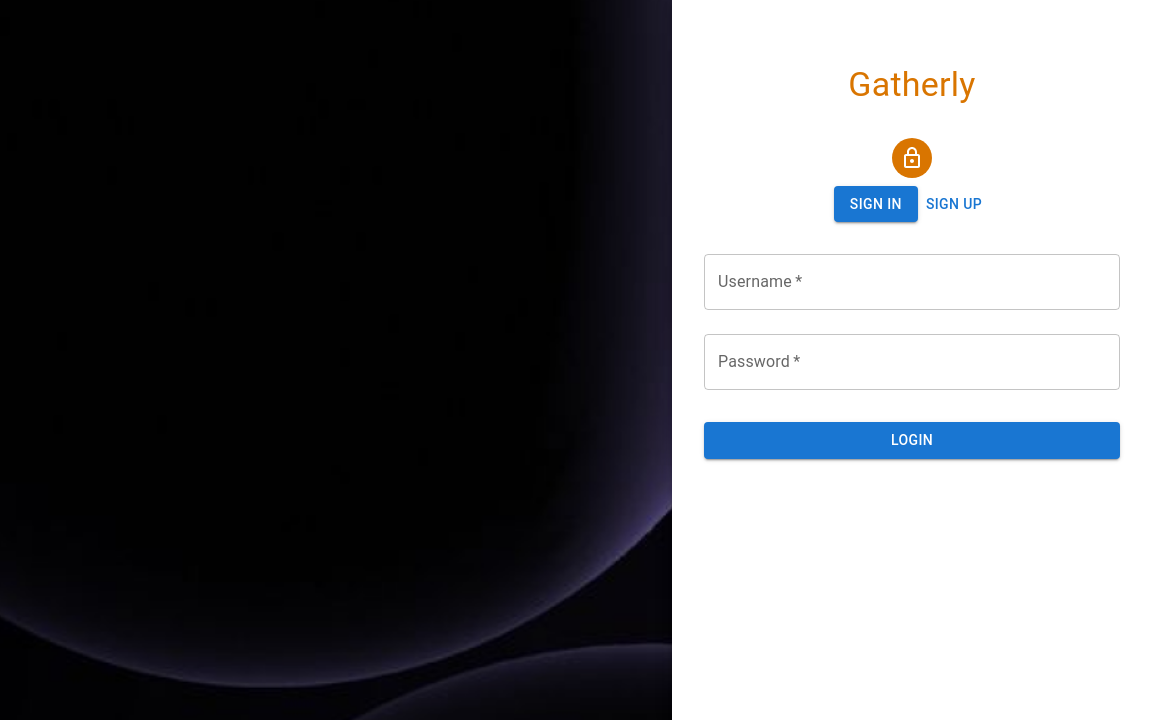
Scenario: network failures display a helpful error instead of crashing login
Type "testuser" into the field labelled "Username *" at (912, 282), box [704, 254, 1120, 310]
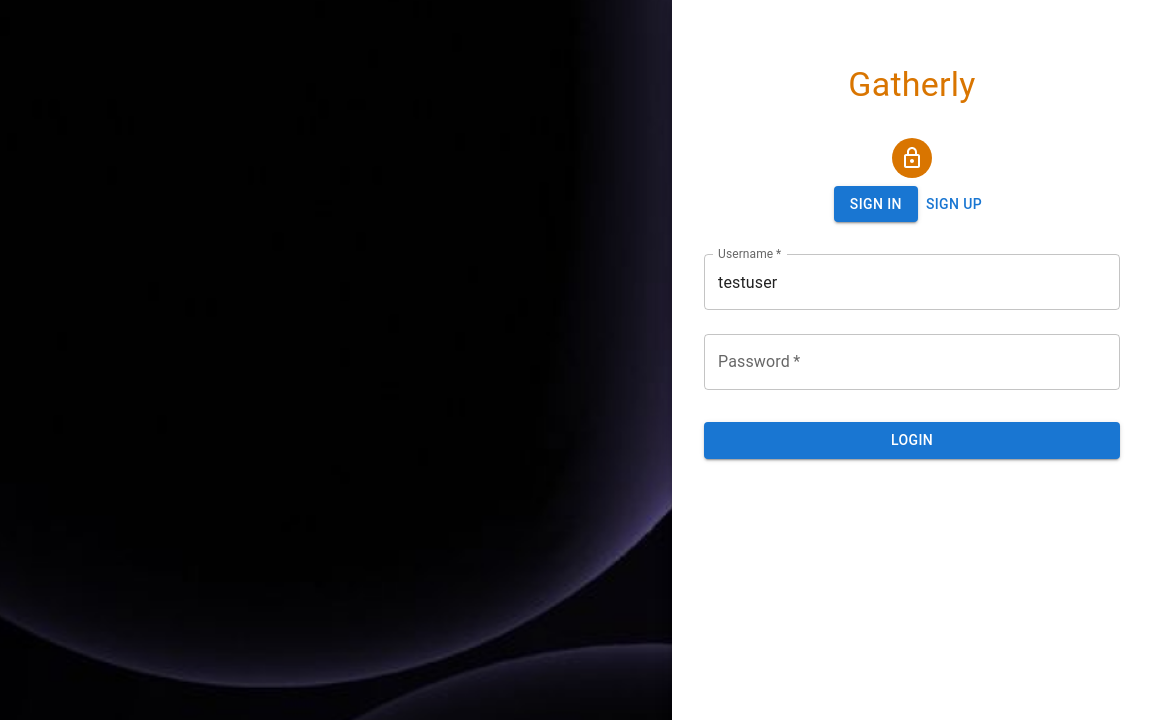
Type "testing123" into the password field labelled "Password *" at (912, 362), box [704, 334, 1120, 390]
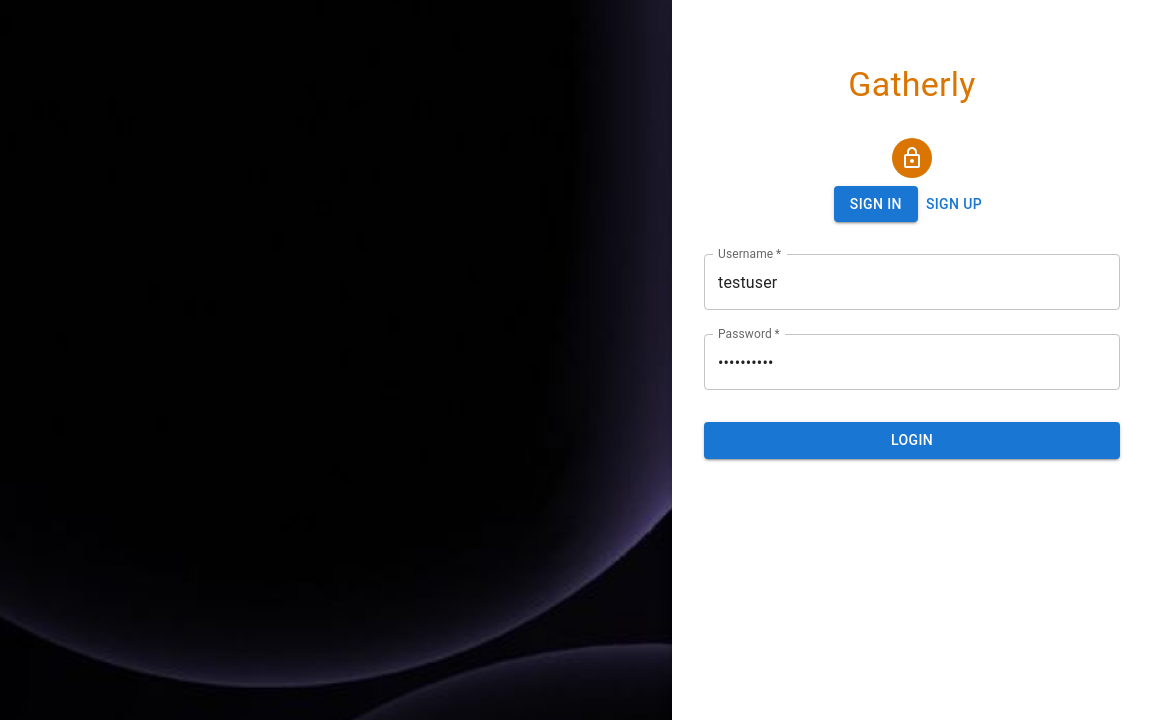
Click the button "Login" at (912, 441), box [704, 422, 1120, 459]
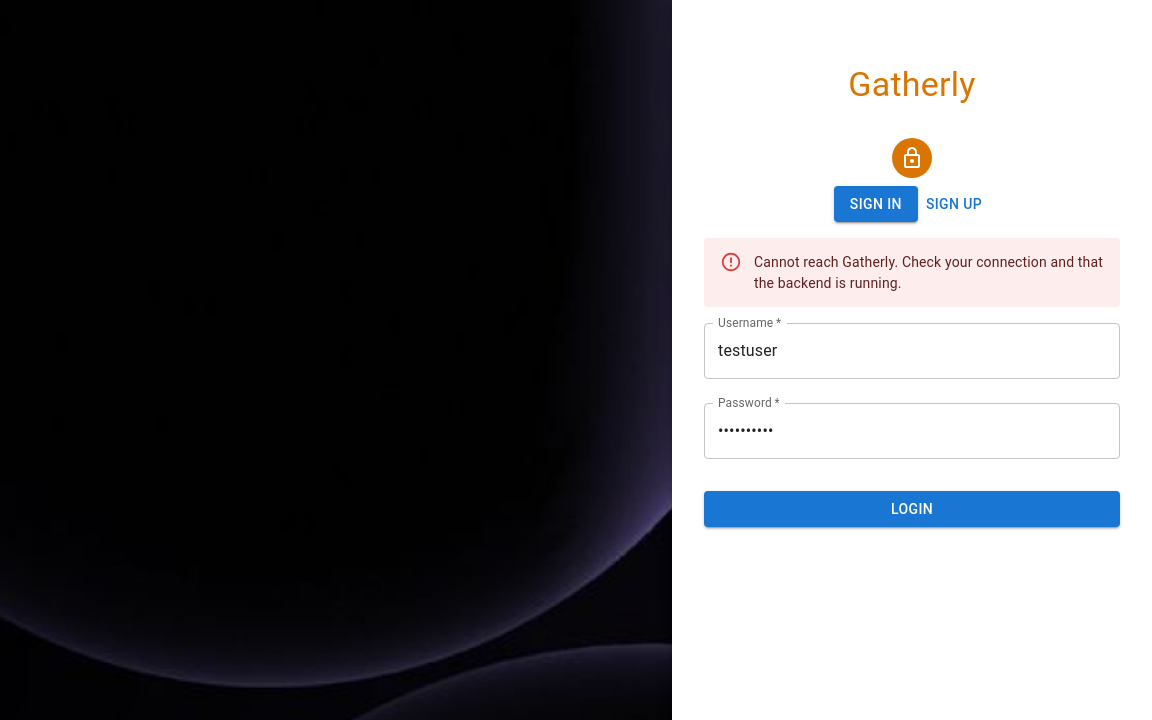
Expected: the message shows "Cannot reach Gatherly", [754, 254, 1103, 290]
